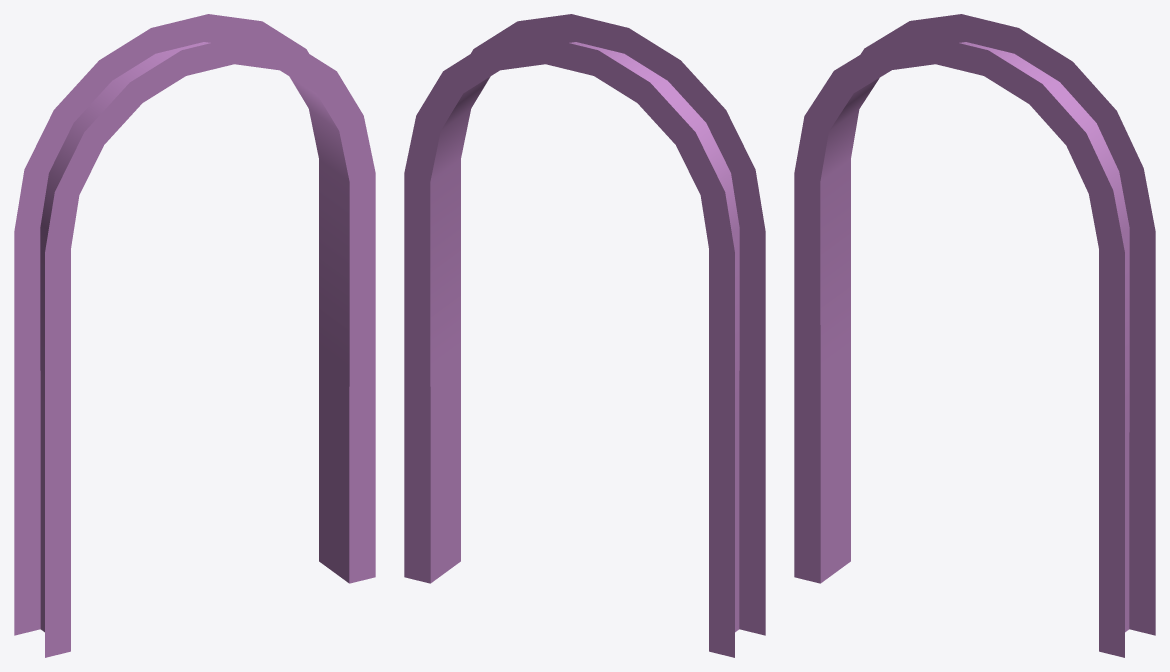
File: Gate_Fr_Frame.fbx
3 views of the same model, side by side, from view 1: azimuth 30°, elevation 25°; view 2: azimuth 150°, elevation 25°; view 3: azimuth 330°, elevation 25° (orthographic).
Visible parts, largest first — view 1: Gate_Fr_Frame; view 2: Gate_Fr_Frame; view 3: Gate_Fr_Frame.
Part boxes in pixels (<box>): Gate_Fr_Frame: <box>14,14,375,657</box>; Gate_Fr_Frame: <box>404,14,765,657</box>; Gate_Fr_Frame: <box>794,14,1155,657</box>.
Bounding box in the file's own units: 470 × 780 × 75.
